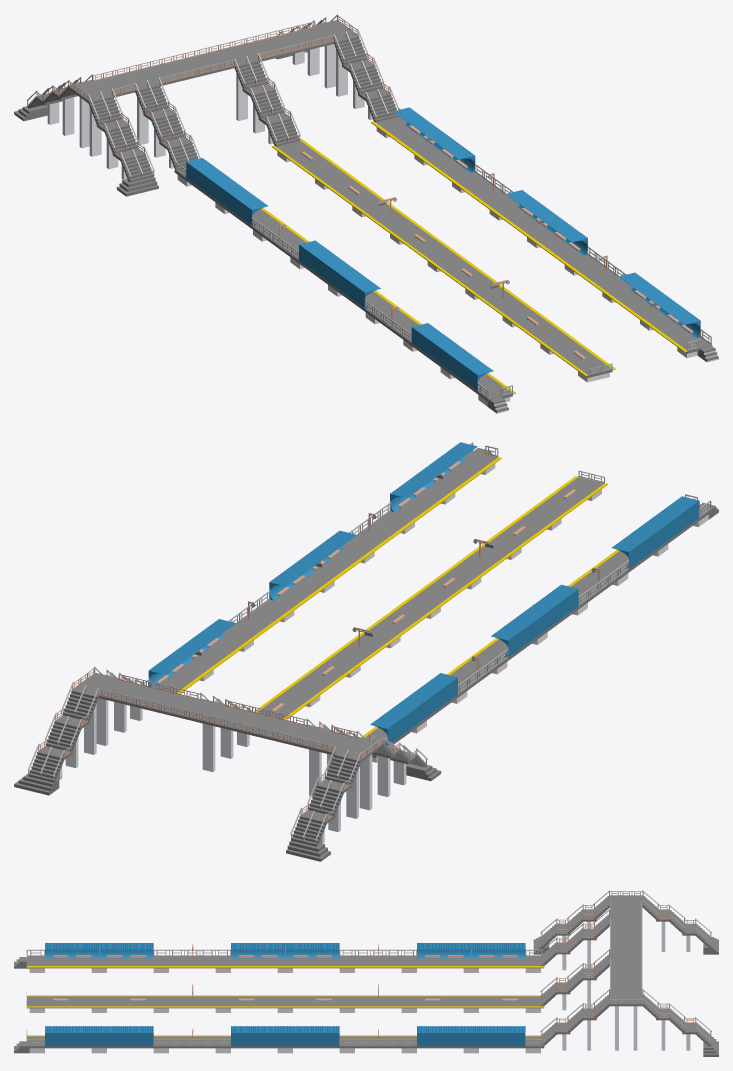
File: railway_station__low-poly_model.glb
3 renders of one model, top to bottom at view 1: azimuth 30°, elevation 25°; view 2: azimuth 150°, elevation 25°; view 3: azimuth 270°, elevation 25°, orthographic. The views are drawn at different scales.
Visible parts, largest first — view 1: block (×7), halfPipe_half (×8); view 2: block (×8), halfPipe_half (×9); view 3: block (×9), halfPipe_half (×12).
Boxes of the visible parts, x1,y1,x2,y2 form: block (×7): [93, 26, 712, 401]; halfPipe_half (×8): [186, 108, 700, 390]; block (×8): [98, 451, 711, 810]; halfPipe_half (×9): [148, 443, 699, 745]; block (×9): [26, 896, 642, 1048]; halfPipe_half (×12): [45, 943, 525, 1046].
Size of the model in its own units: 43.18 by 9.55 by 111.
